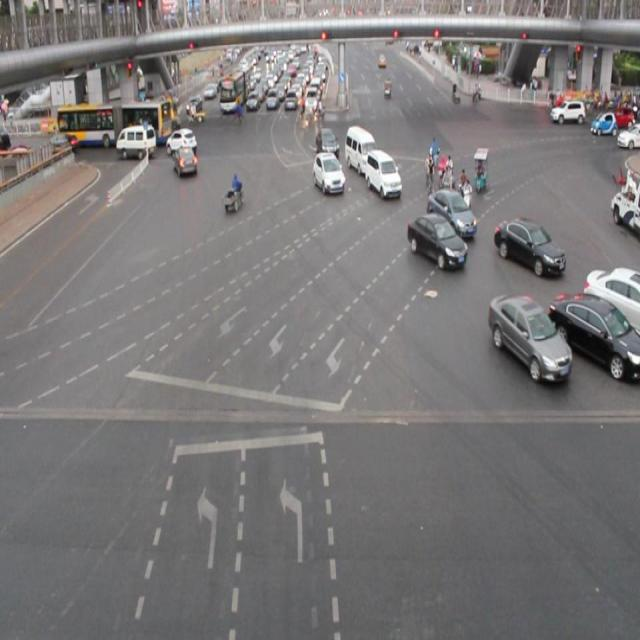car: (485, 292, 567, 399), (560, 294, 638, 393), (492, 213, 566, 286), (409, 208, 465, 280), (432, 186, 481, 243), (367, 155, 402, 209), (310, 154, 346, 198), (553, 98, 587, 135), (347, 124, 375, 168), (117, 126, 150, 161), (592, 104, 618, 142), (174, 147, 198, 184), (305, 84, 320, 115), (246, 90, 259, 115), (283, 89, 297, 112), (266, 88, 278, 112)
